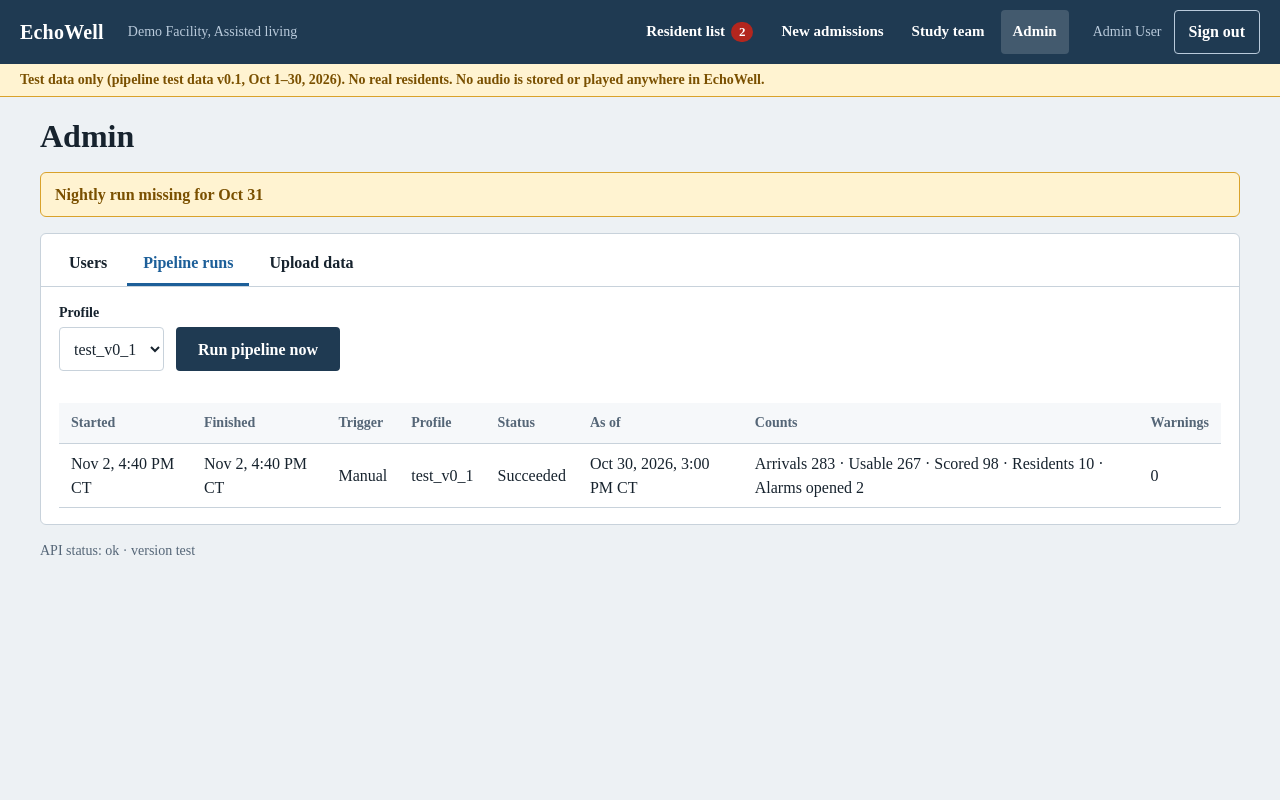
Scenario: /admin › Pipeline runs › starts a run with the environment profile and follows it (UX-212)
Expected: the dropdown labelled "Profile" is enabled, [59,327,164,371]
Click the button "Run pipeline now" at (258, 349), box [176,327,340,371]
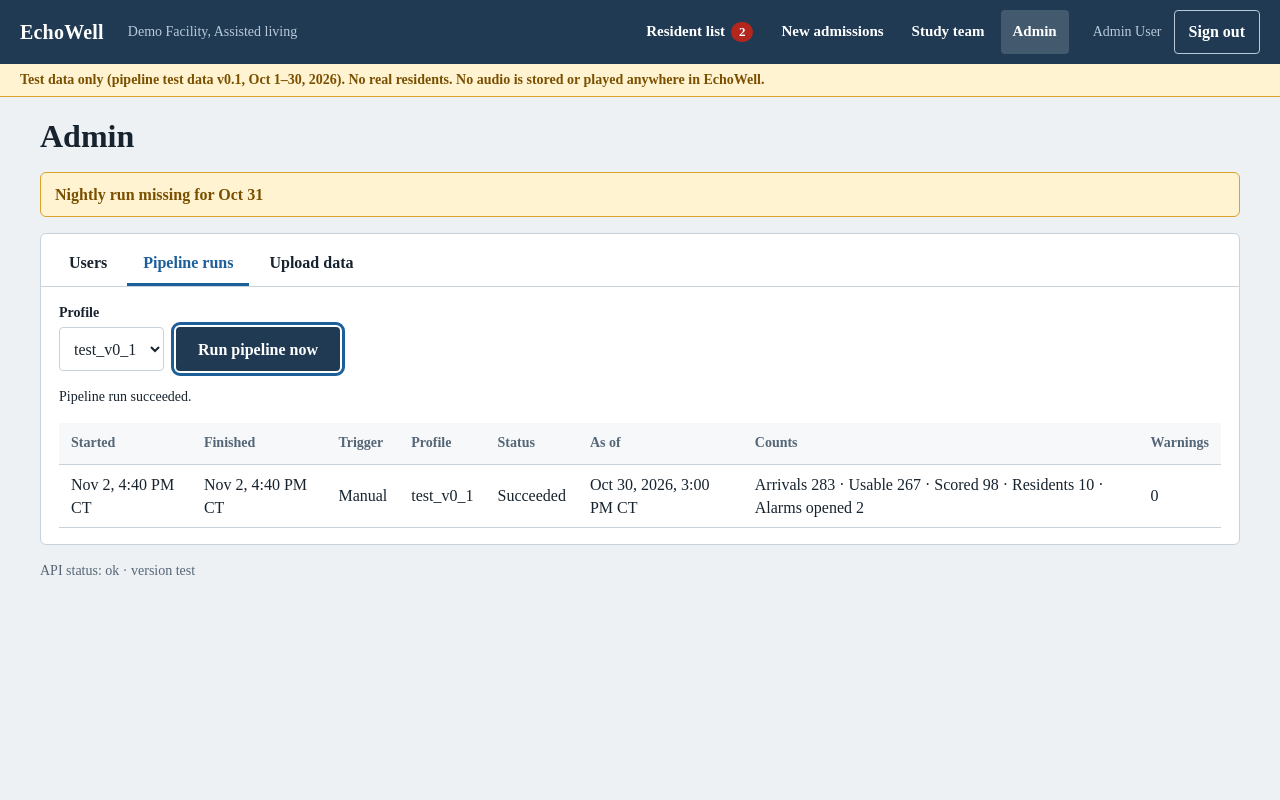
Expected: the text "Pipeline run succeeded." is shown, [59,389,192,404]
